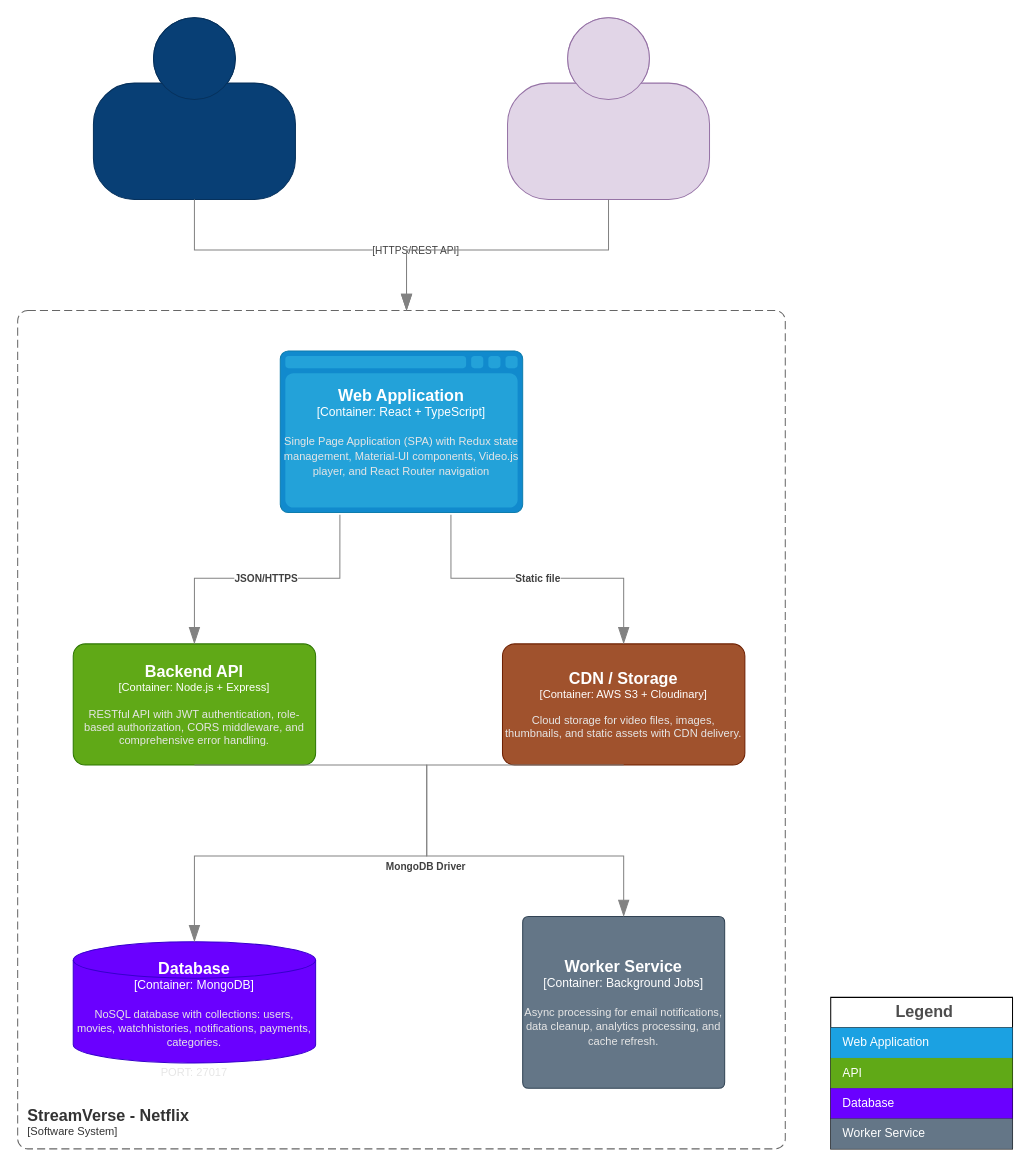
This 1030x1167 diagram has some shape labels left out. The centre of each missing label's shape, as x and y in pixels:
Administrator [Person]: the point at 608,108
End User [Person]: the point at 193,108
